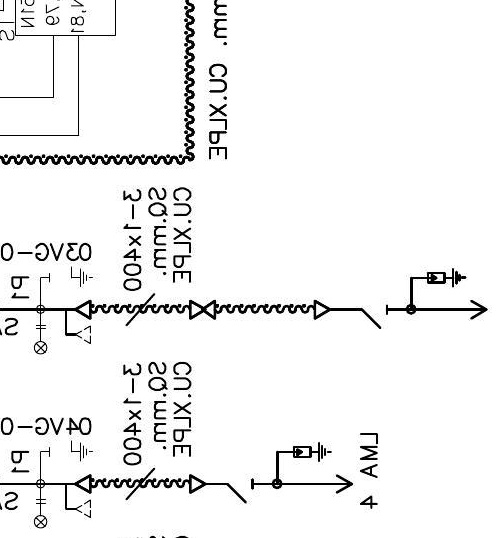22_ds_la_out: (361, 267, 489, 330), (226, 441, 354, 504)
22_gs: (47, 439, 93, 463), (47, 265, 93, 288)
22_ll: (33, 324, 48, 355), (33, 498, 48, 529)
terminator_single: (312, 299, 331, 321), (188, 473, 206, 495)
terminator_splicing_kits: (188, 299, 216, 320)
terminator_w_future: (63, 299, 93, 346), (63, 473, 92, 520)
